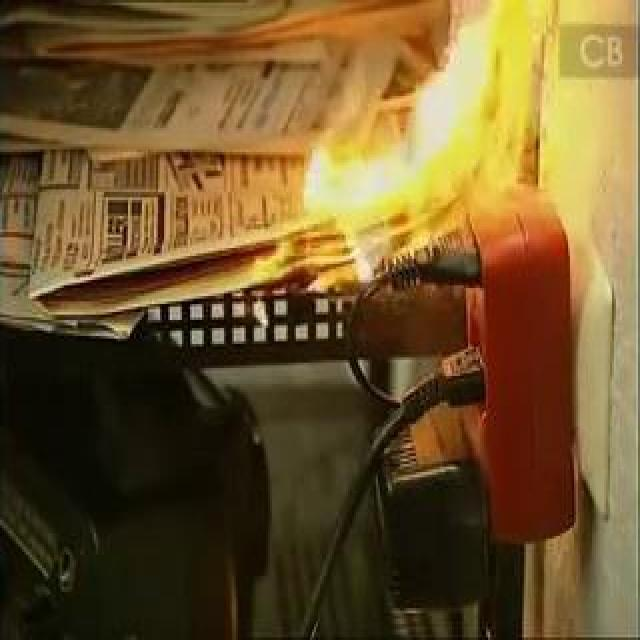Fire: (233, 2, 531, 314)
